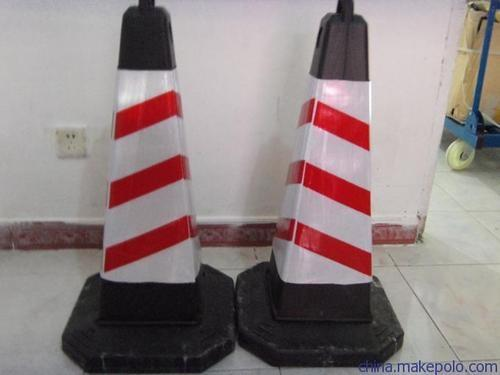cone_barrel: (65, 6, 222, 358), (243, 9, 393, 357)
